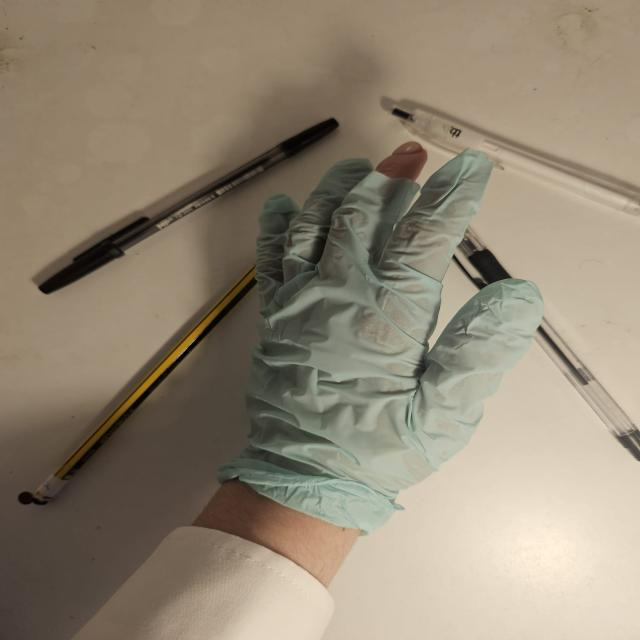gloves_damaged: (223, 137, 547, 540)
